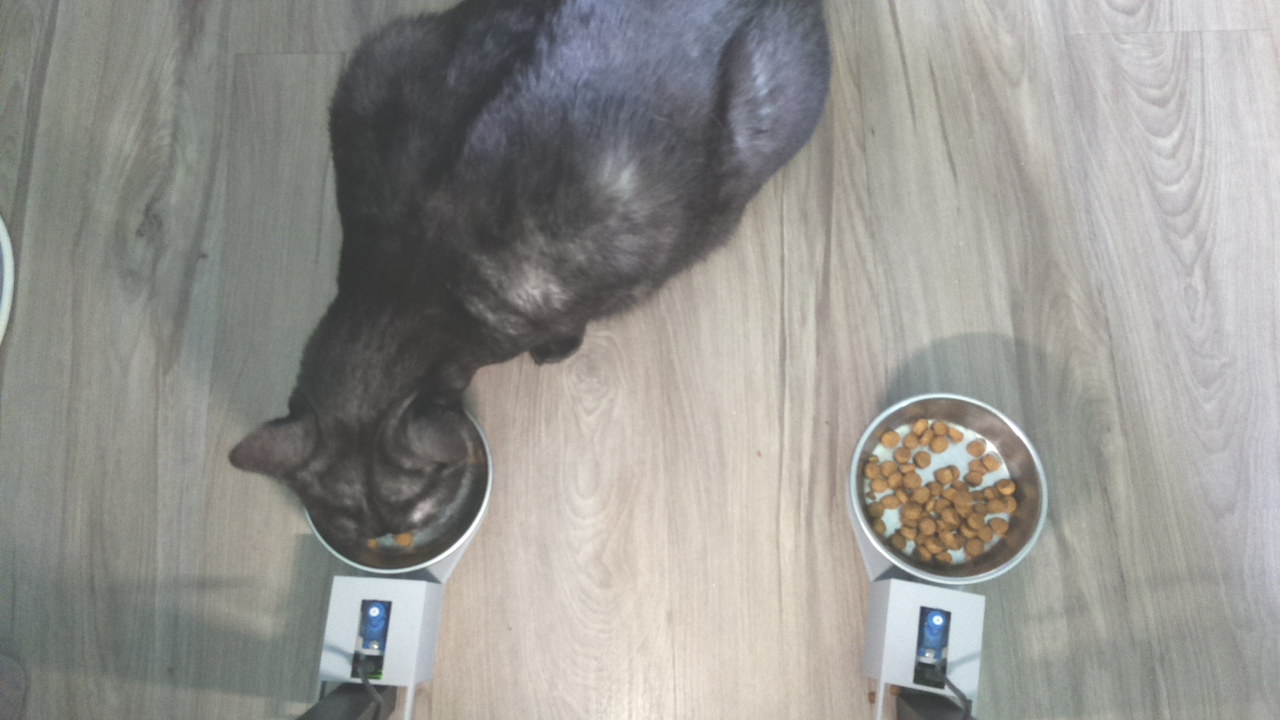open_bowl: (848, 389, 1052, 586)
saki_eating: (220, 284, 500, 572)
